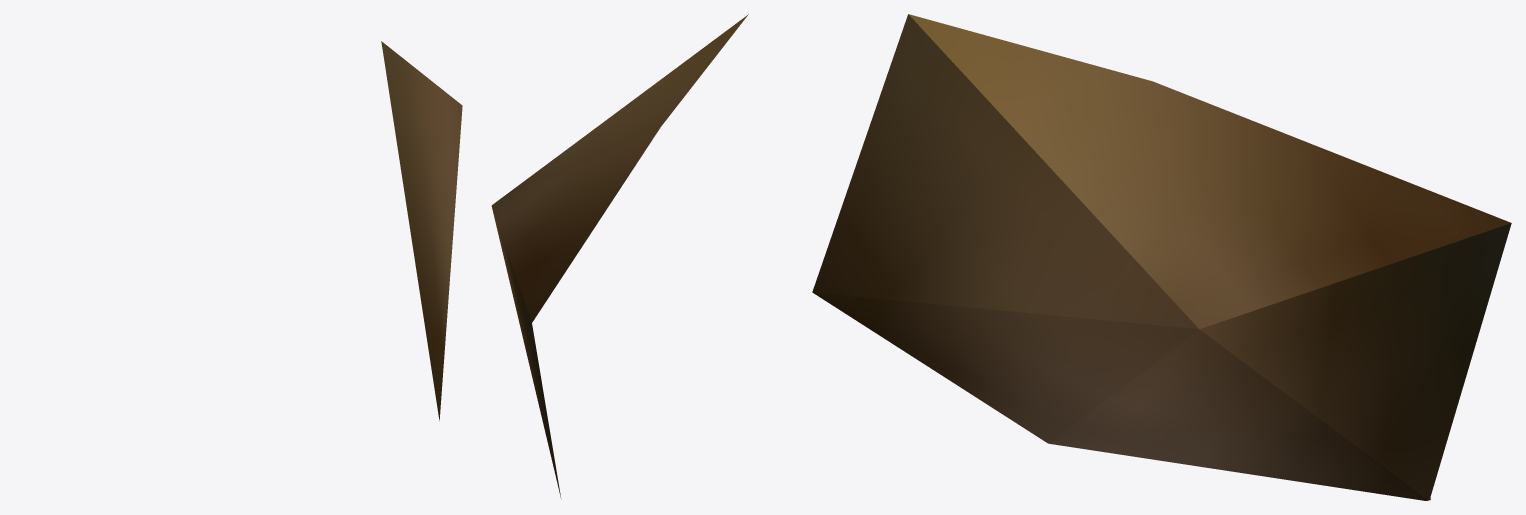
3 renders of one model, left to right at view 1: azimuth 30°, elevation 25°; view 2: azimuth 150°, elevation 25°; view 3: azimuth 270°, elevation 25°, orthographic. The views are drawn at different scales.
Size of the model in its own units: 0.00883 by 0.0193 by 0.0252.
Materials: 1 (1 with a texture image).
